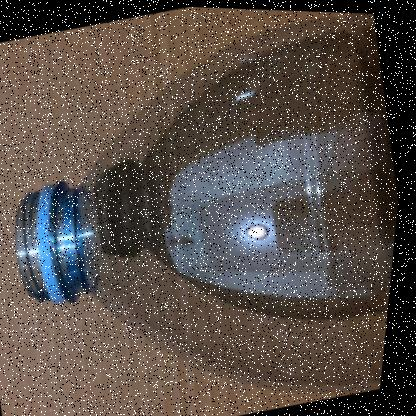open bottle: (1, 1, 349, 416)
